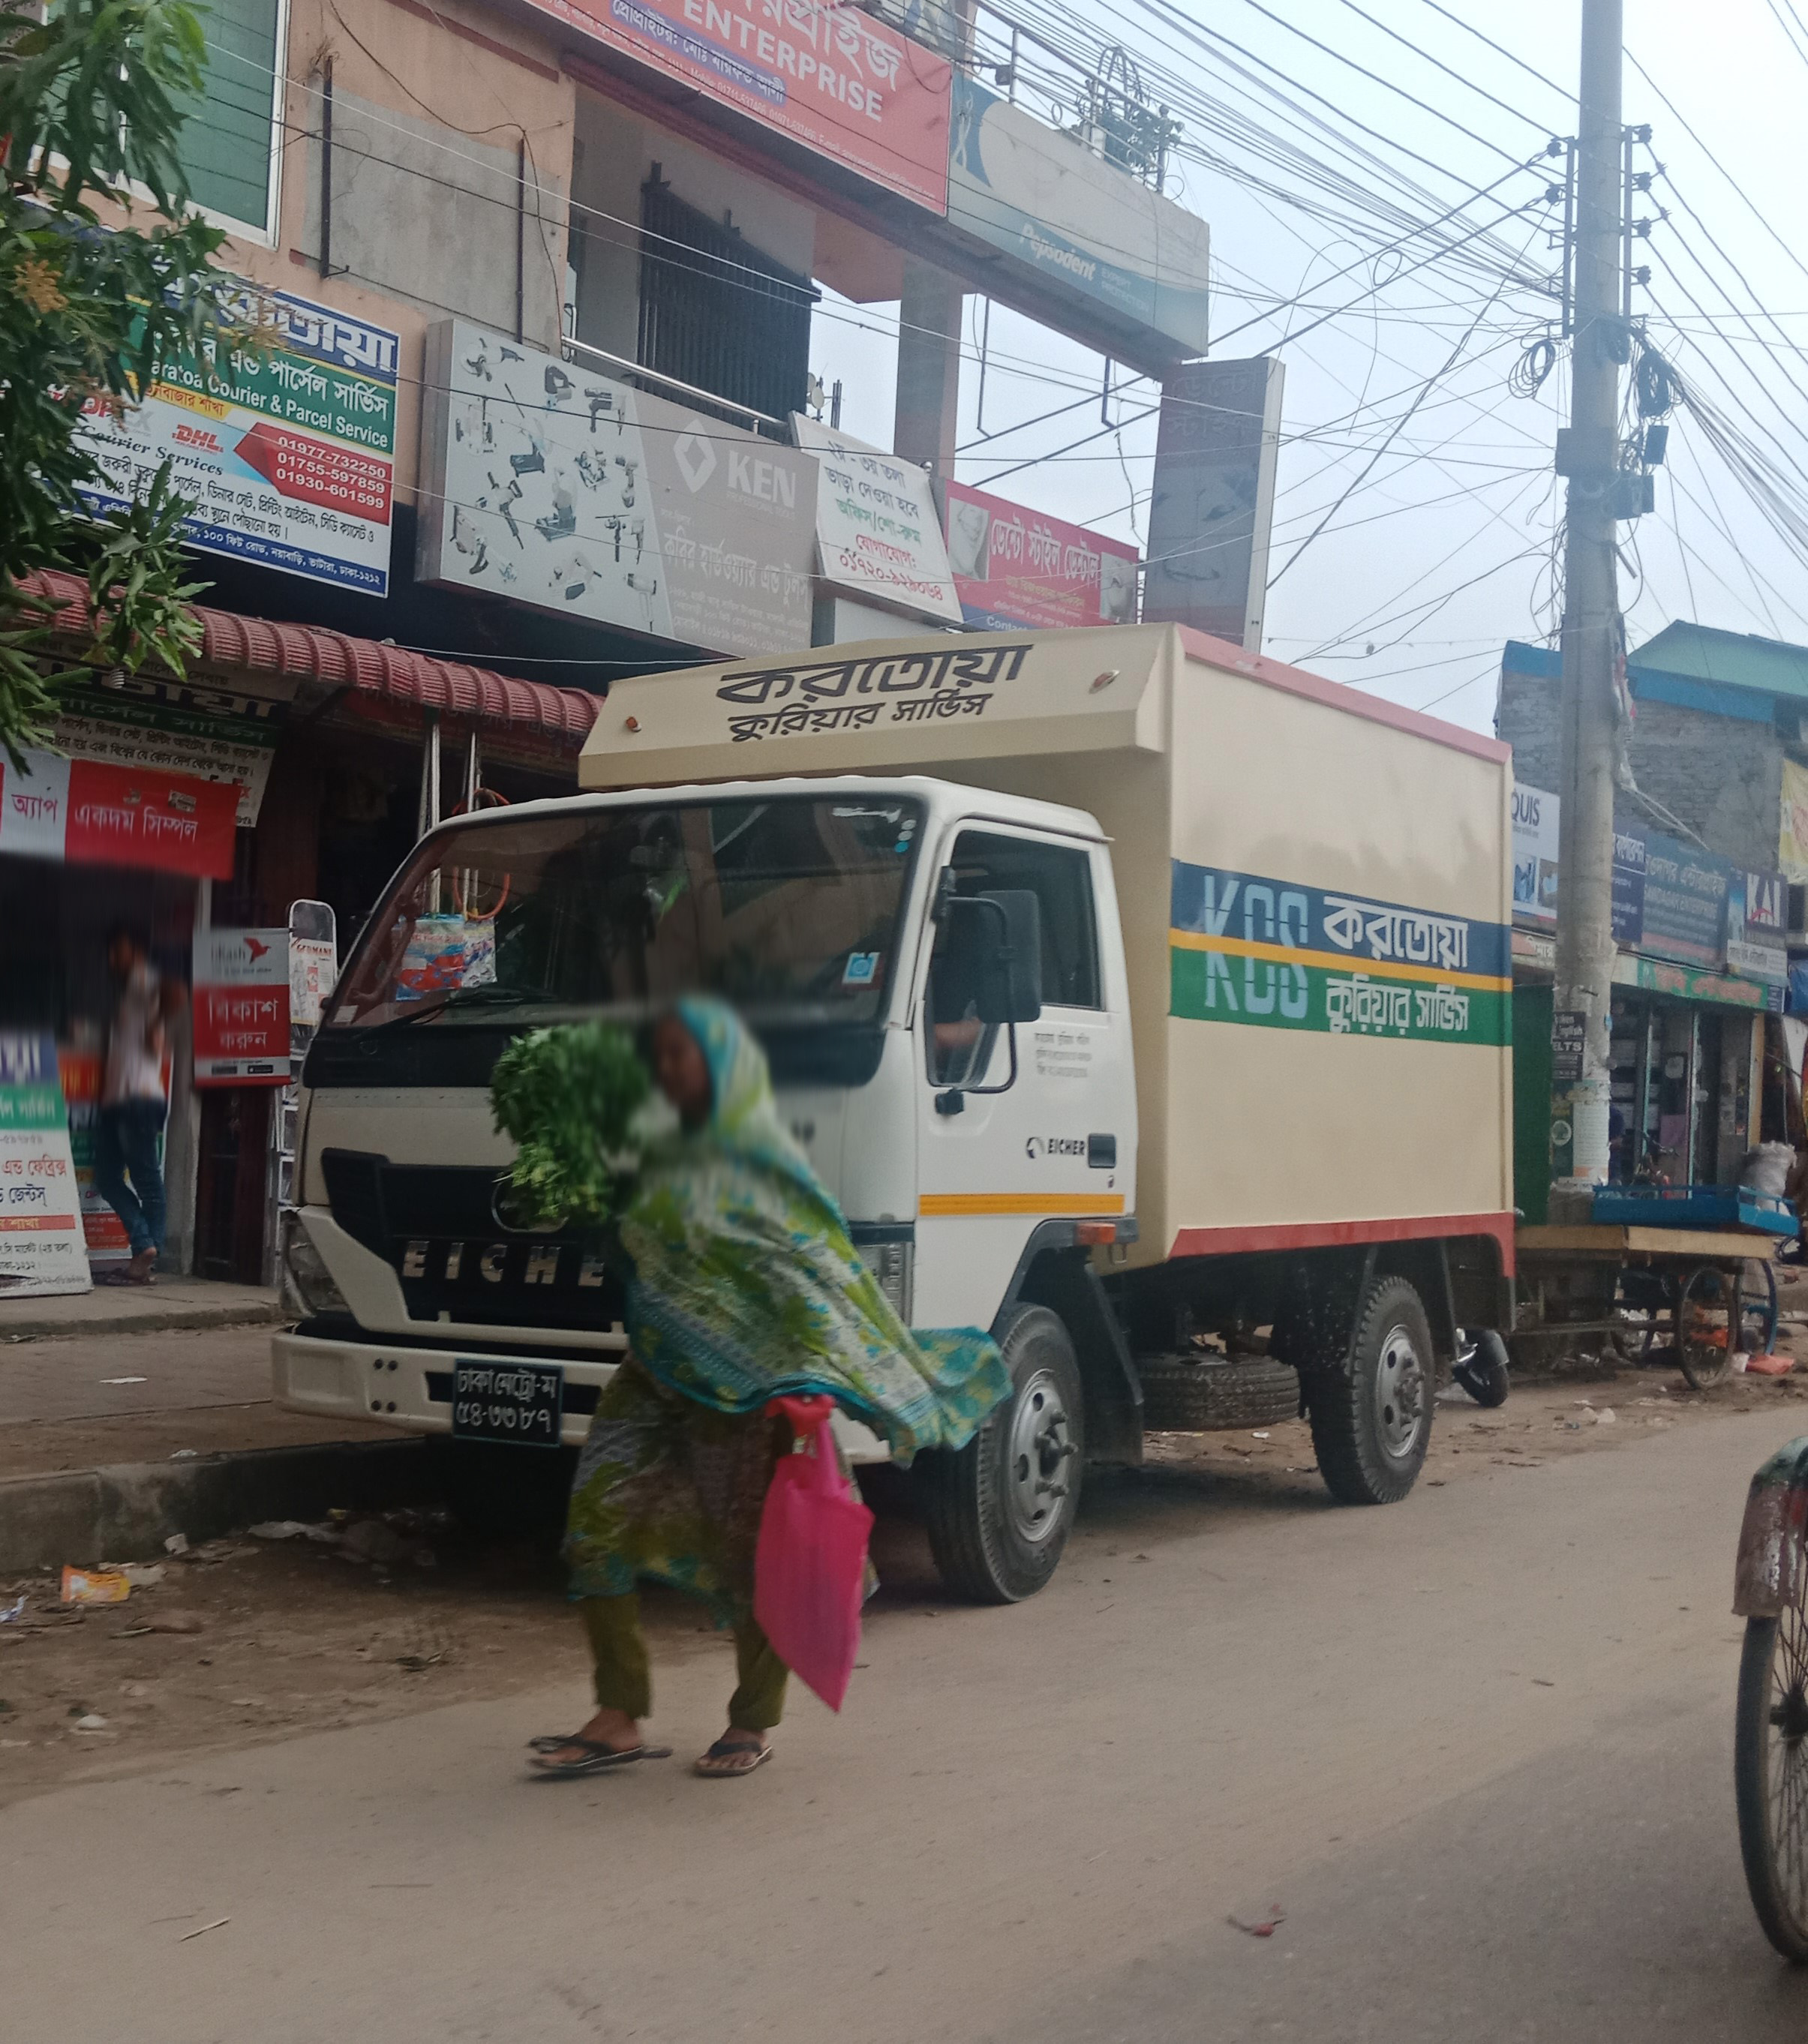truck: (272, 602, 1518, 1531)
